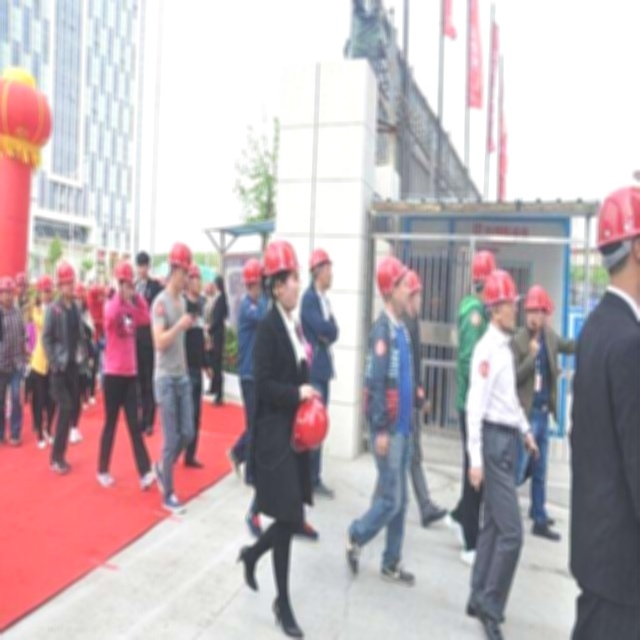Con_Casco: (262, 239, 302, 304), (169, 241, 192, 292)
